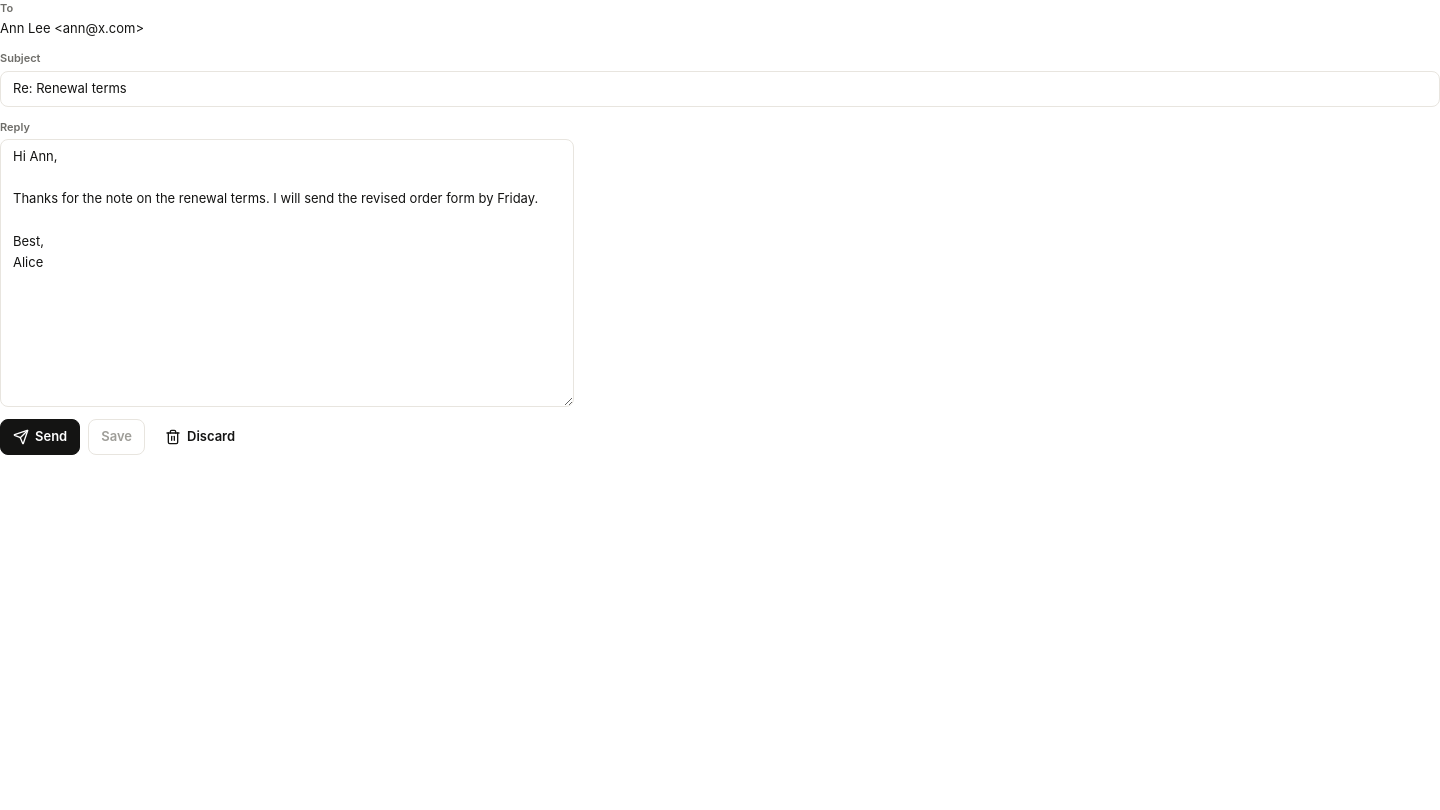
Test case: DraftForm: an email draft (Decisions 2 to 6) › hands a Discard refused with ALREADY_SENT to the panel and closes the dialog
The image size is (1440, 810).
Step 1. Click the button "Discard" → (200, 436), box [153,418,247,454]
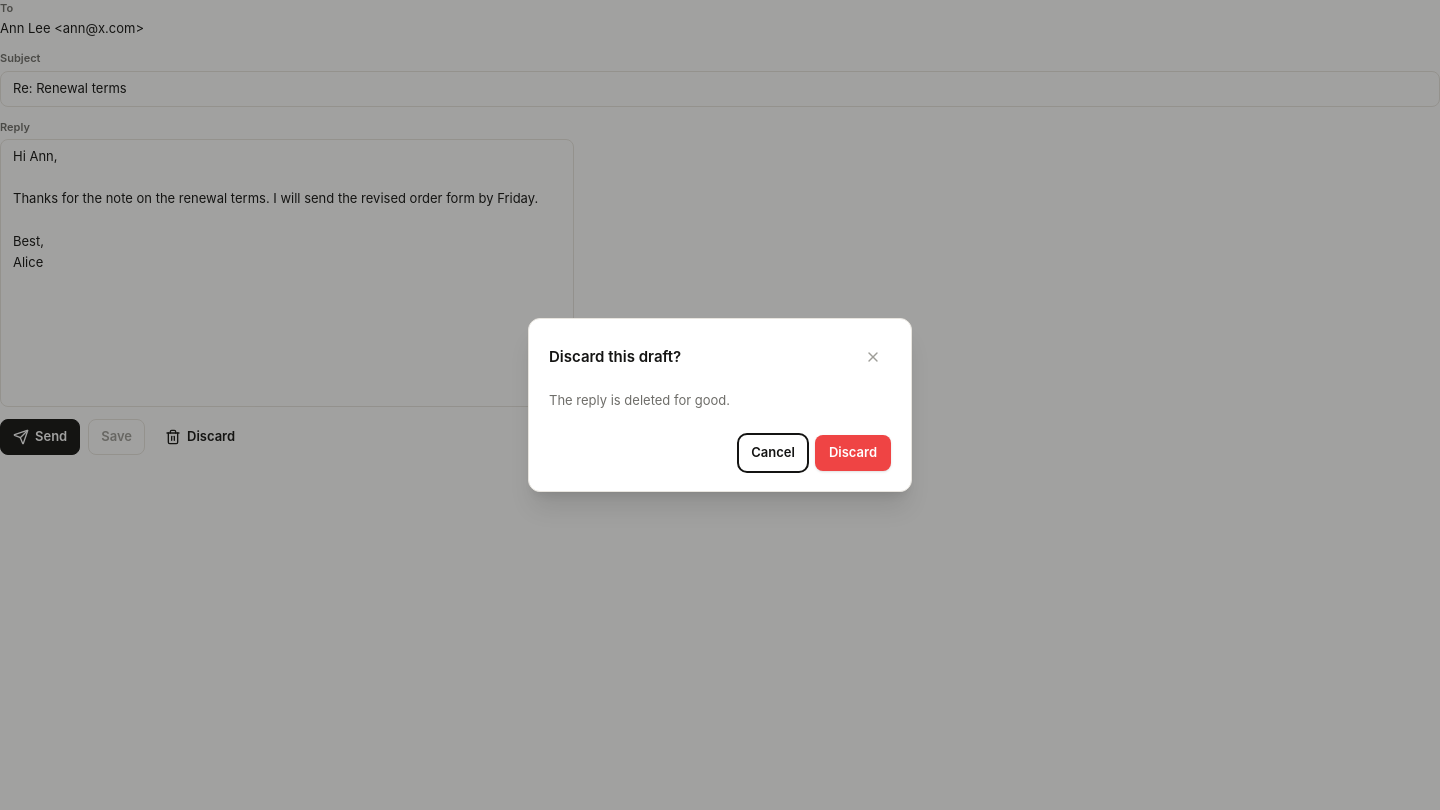
Step 2. Click the button "Discard" → (853, 453), box [815,435,891,471]
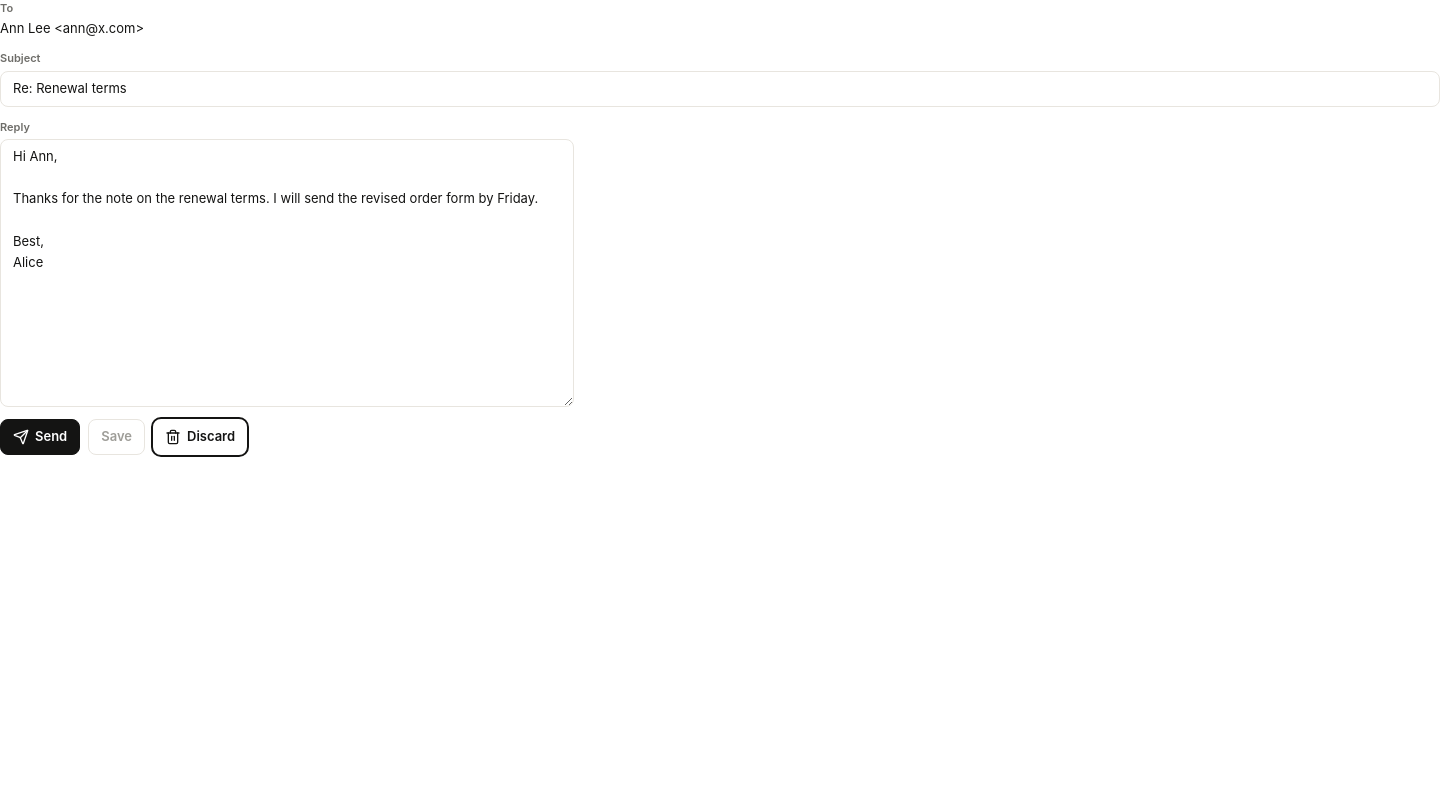
Now the dialog is gone
